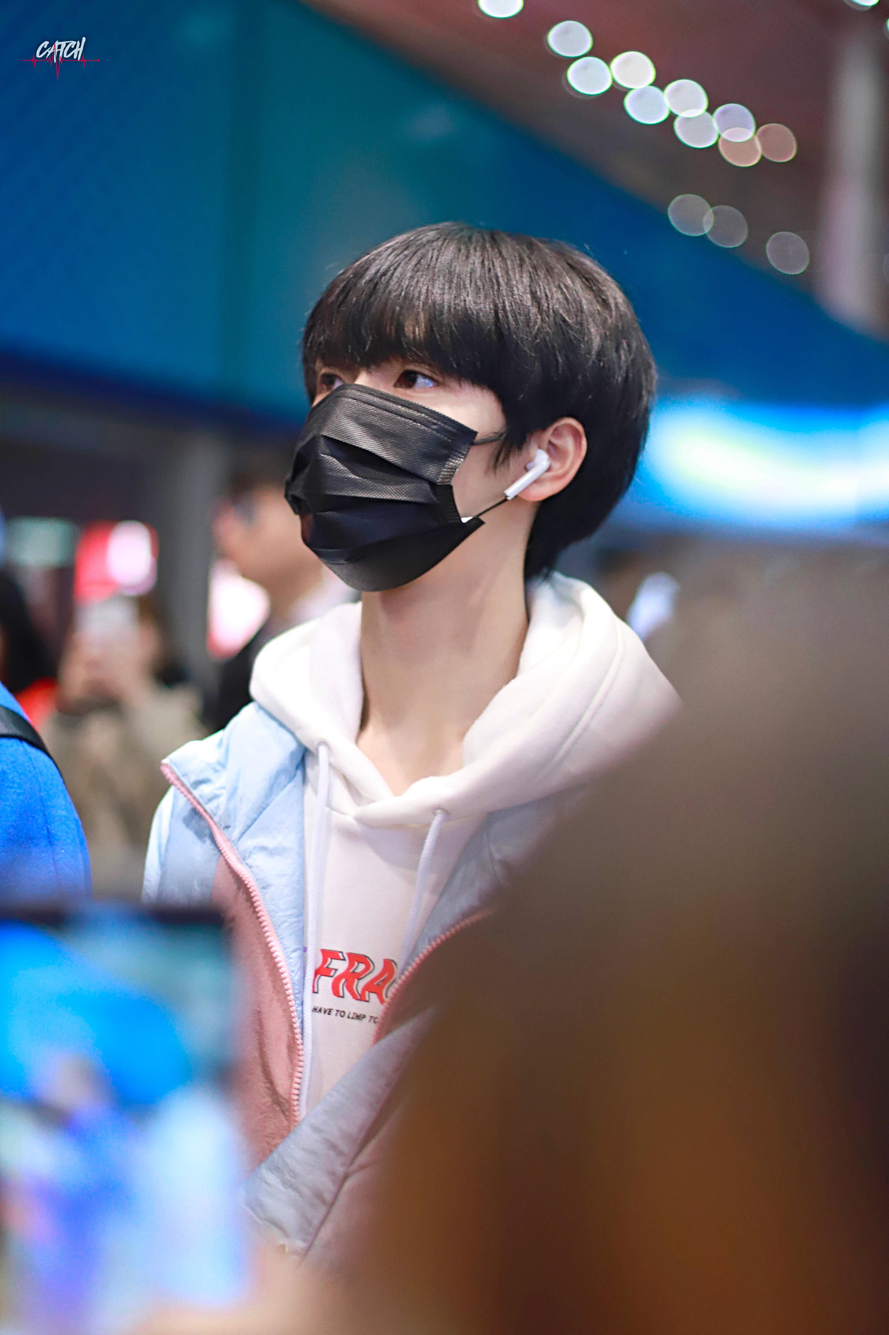OK: (294, 318, 484, 589)
